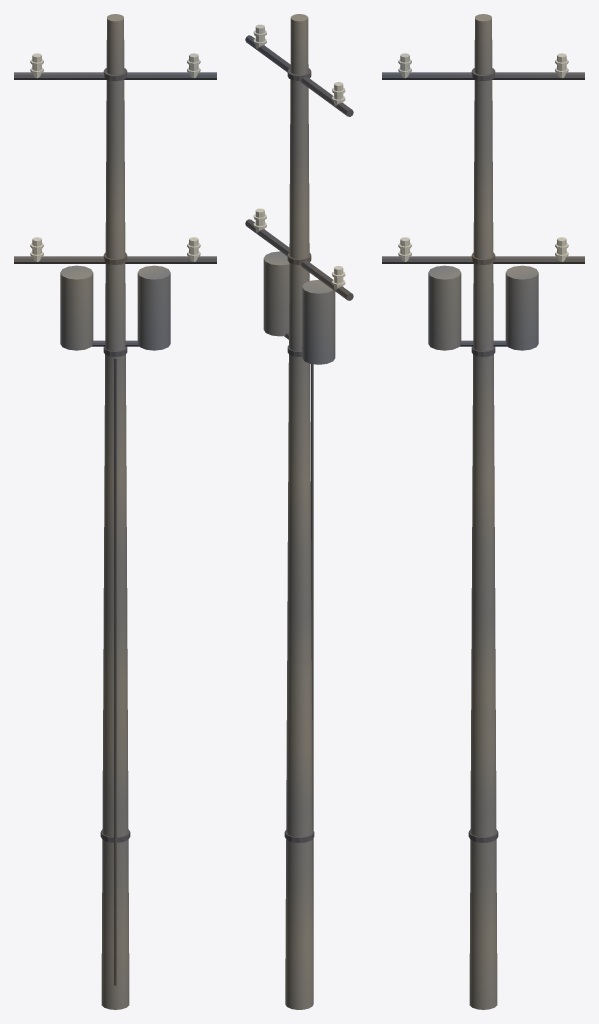
File: ART_UtilityPole.glb
3 renders of one model, left to right at view 1: azimuth 90°, elevation 25°; view 2: azimuth 210°, elevation 25°; view 3: azimuth 270°, elevation 25°, orthographic.
Visible parts, largest first — view 1: ART_UtilityPole; view 2: ART_UtilityPole; view 3: ART_UtilityPole.
Boxes of the visible parts, <box> form: ART_UtilityPole: <box>14,14,216,1009</box>; ART_UtilityPole: <box>245,14,353,1009</box>; ART_UtilityPole: <box>382,14,584,1009</box>.
Bounding box in the file's own units: 0.36 × 11.8 × 2.2.
